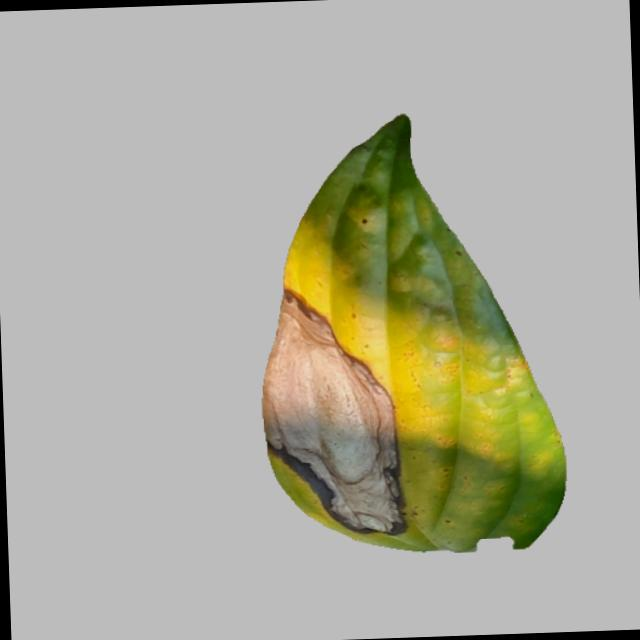leaf-blight: (245, 112, 580, 559)
